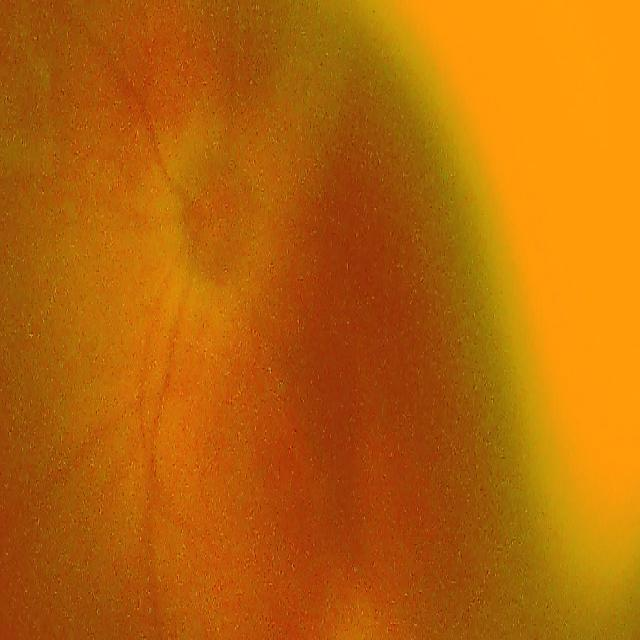optic-nerve: (147, 107, 286, 336)
